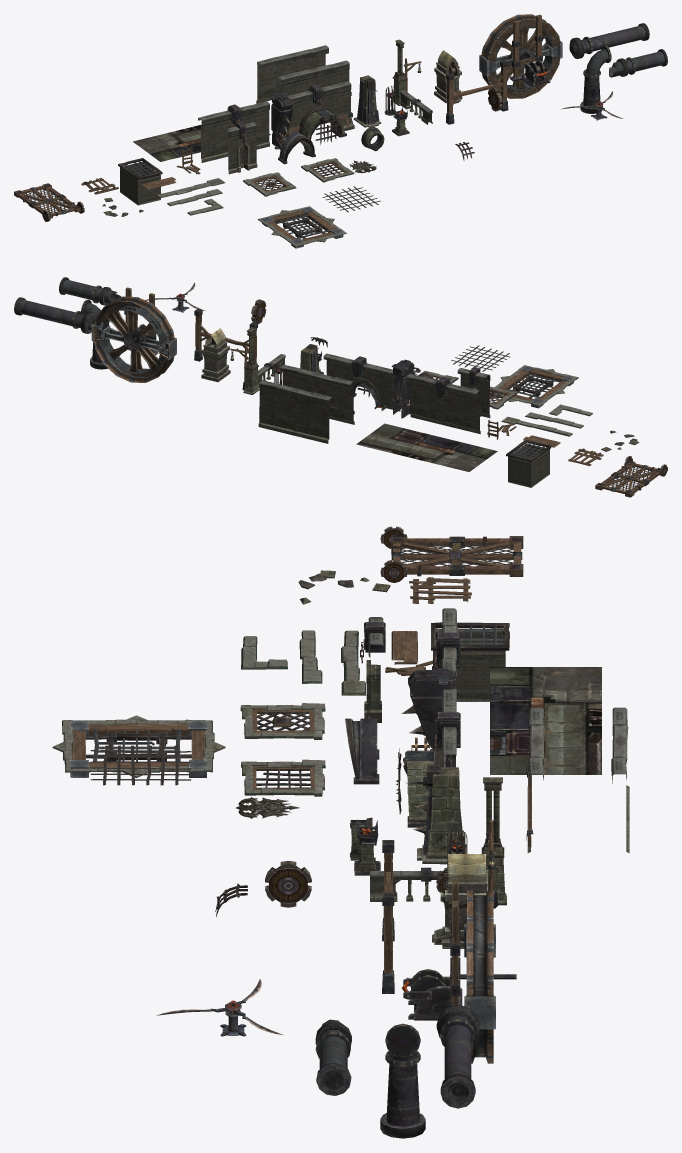
Rendered from f_1114_Thing01.FBX.
The picture shows the model from 3 angles, top to bottom: view 1: azimuth 30°, elevation 25°; view 2: azimuth 150°, elevation 25°; view 3: azimuth 270°, elevation 25°; orthographic projection. The views are drawn at different scales.
Visible parts, largest first — view 1: d_1114_Thing17, d_1114_Thing022, d_1114_Thing1746, d_1114_Thing06, d_1114_Thing050, d_1114_Thing043, d_1114_Thing42, d_1114_Thing023, f_1107_floor33, f_1107_floor31, f_1107_floor32, d_1114_Thing044 (+18 smaller); view 2: d_1114_Thing17, d_1114_Thing1746, d_1114_Thing043, d_1114_Thing022, d_1114_Thing42, d_1114_Thing06, d_1114_Thing050, f_1107_floor33, f_1107_floor31, d_1114_Thing044, d_1114_Thing18, f_1107_floor034 (+13 smaller); view 3: d_1114_Thing043, f_1107_floor33, d_1114_Thing050, d_1114_Thing17, f_1107_floor32, d_1114_Thing10, f_1107_floor31, d_1114_Thing18, d_1114_Thing39, d_1114_Thing41, d_1114_Thing05, d_1114_Thing044 (+23 smaller).
Boxes of the visible parts, x1=… form: d_1114_Thing17: x1=479, y1=14, x2=562, y2=98; d_1114_Thing022: x1=198, y1=101, x2=269, y2=162; d_1114_Thing1746: x1=256, y1=45, x2=328, y2=103; d_1114_Thing06: x1=286, y1=81, x2=354, y2=135; d_1114_Thing050: x1=262, y1=207, x2=343, y2=248; d_1114_Thing043: x1=133, y1=124, x2=270, y2=161; d_1114_Thing42: x1=278, y1=60, x2=351, y2=95; d_1114_Thing023: x1=225, y1=122, x2=257, y2=174; f_1107_floor33: x1=14, y1=183, x2=84, y2=221; f_1107_floor31: x1=569, y1=23, x2=649, y2=58; f_1107_floor32: x1=580, y1=45, x2=611, y2=113; d_1114_Thing044: x1=120, y1=162, x2=160, y2=205; d_1114_Thing17: x1=91, y1=296, x2=176, y2=382; d_1114_Thing1746: x1=258, y1=380, x2=332, y2=443; d_1114_Thing043: x1=356, y1=423, x2=497, y2=471; d_1114_Thing022: x1=406, y1=374, x2=480, y2=434; d_1114_Thing42: x1=280, y1=365, x2=354, y2=424; d_1114_Thing06: x1=323, y1=353, x2=400, y2=411; d_1114_Thing050: x1=493, y1=365, x2=573, y2=408; f_1107_floor33: x1=595, y1=456, x2=667, y2=497; f_1107_floor31: x1=14, y1=297, x2=95, y2=333; d_1114_Thing044: x1=508, y1=444, x2=549, y2=487; d_1114_Thing18: x1=201, y1=328, x2=230, y2=382; f_1107_floor034: x1=59, y1=277, x2=121, y2=305; d_1114_Thing043: x1=490, y1=667, x2=601, y2=774; f_1107_floor33: x1=380, y1=526, x2=523, y2=582; d_1114_Thing050: x1=70, y1=721, x2=207, y2=777; d_1114_Thing17: x1=450, y1=890, x2=516, y2=1063; f_1107_floor32: x1=380, y1=1023, x2=425, y2=1138; d_1114_Thing10: x1=404, y1=765, x2=466, y2=864; f_1107_floor31: x1=436, y1=1004, x2=479, y2=1108; d_1114_Thing18: x1=432, y1=854, x2=487, y2=948; d_1114_Thing39: x1=240, y1=703, x2=325, y2=739; d_1114_Thing41: x1=241, y1=759, x2=325, y2=796; d_1114_Thing05: x1=401, y1=668, x2=455, y2=767; d_1114_Thing044: x1=433, y1=631, x2=505, y2=701.
Size of the model in its own units: 9936 by 1445 by 4034.
